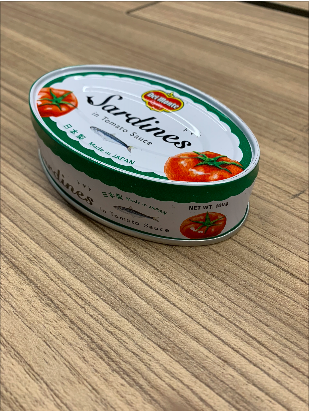Sardines_100-199g: (53, 82, 216, 219)
